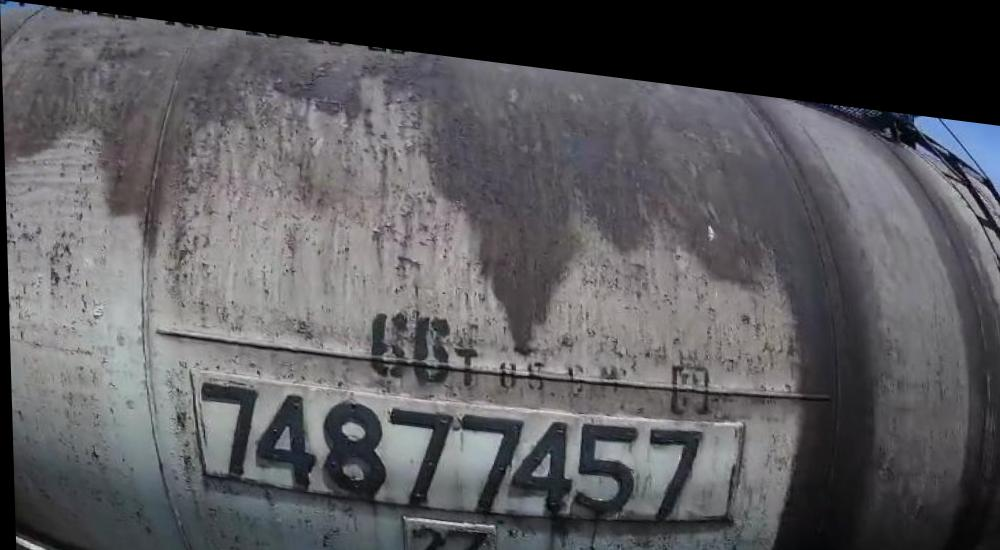Wagon-number: (198, 365, 709, 523)
